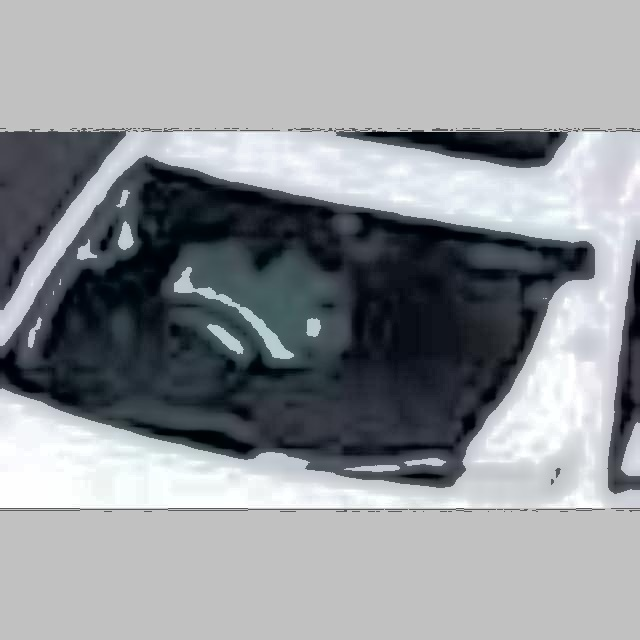tidak-pakai: (164, 210, 356, 395)
